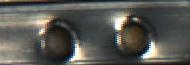joints: (33, 15, 82, 65), (111, 11, 157, 63)
